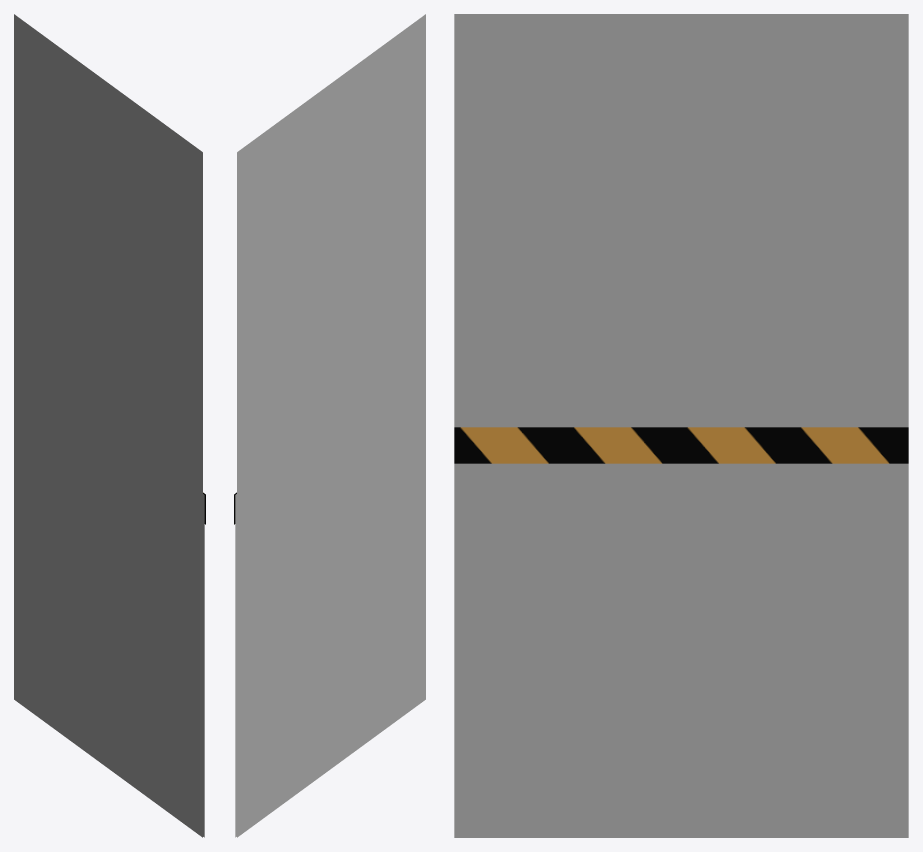
The model's file is SM_Modular_Wall_2x12.fbx.
The picture shows the model from 3 angles, left to right: view 1: azimuth 30°, elevation 25°; view 2: azimuth 150°, elevation 25°; view 3: azimuth 270°, elevation 25°; orthographic projection. The views are drawn at different scales.
Visible parts, largest first — view 1: Modular_Wall_2x12; view 2: Modular_Wall_2x12; view 3: Modular_Wall_2x12.
Part boxes in pixels (x1,y1,x2,y2): Modular_Wall_2x12: [14, 14, 205, 837]; Modular_Wall_2x12: [234, 14, 425, 837]; Modular_Wall_2x12: [454, 14, 908, 837].
Size of the model in its own units: 1.71 by 400 by 200.
